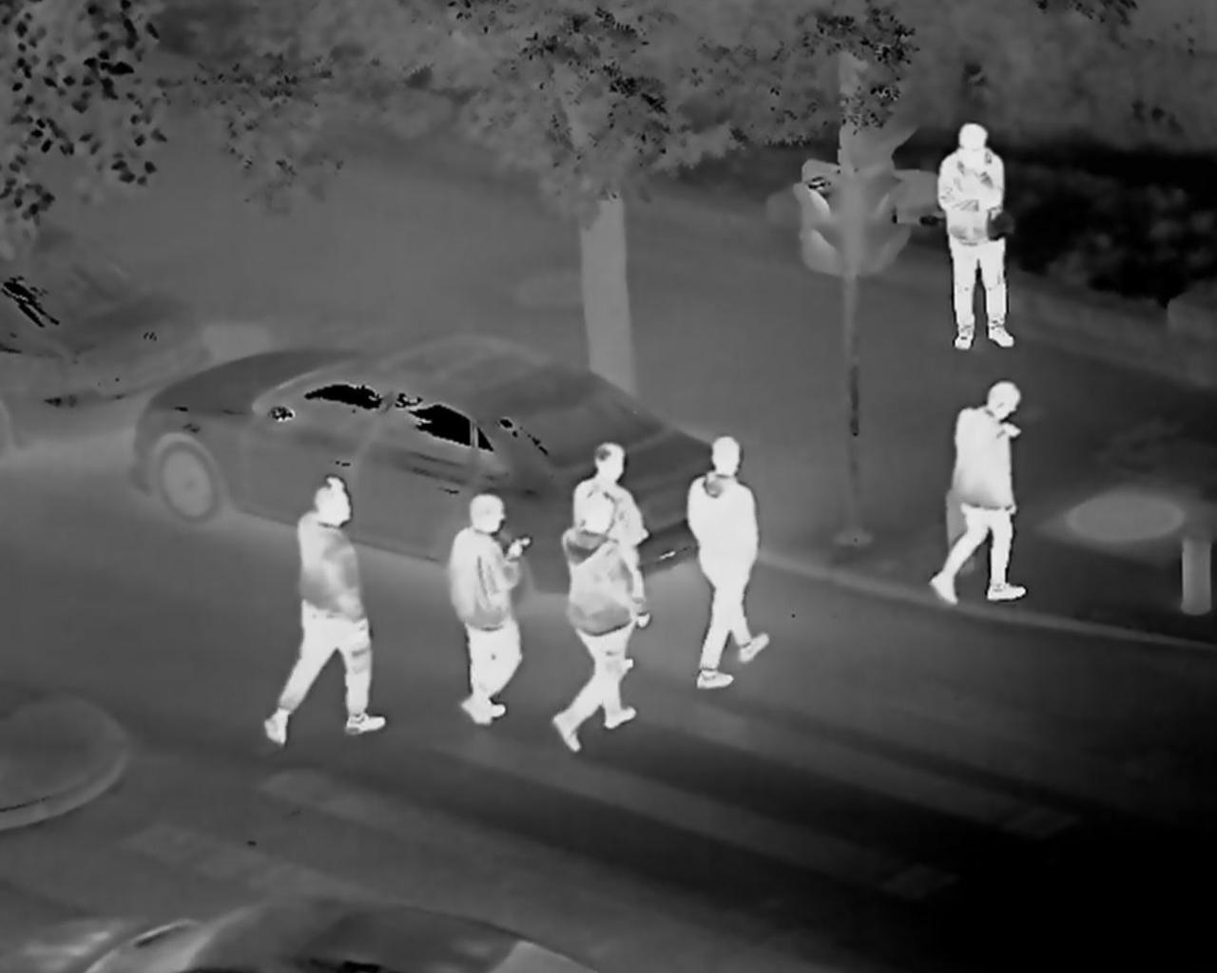person: (261, 477, 390, 763), (657, 419, 784, 696), (433, 480, 544, 728), (926, 374, 1039, 616), (554, 485, 647, 770), (935, 124, 1026, 353), (575, 437, 660, 639)
